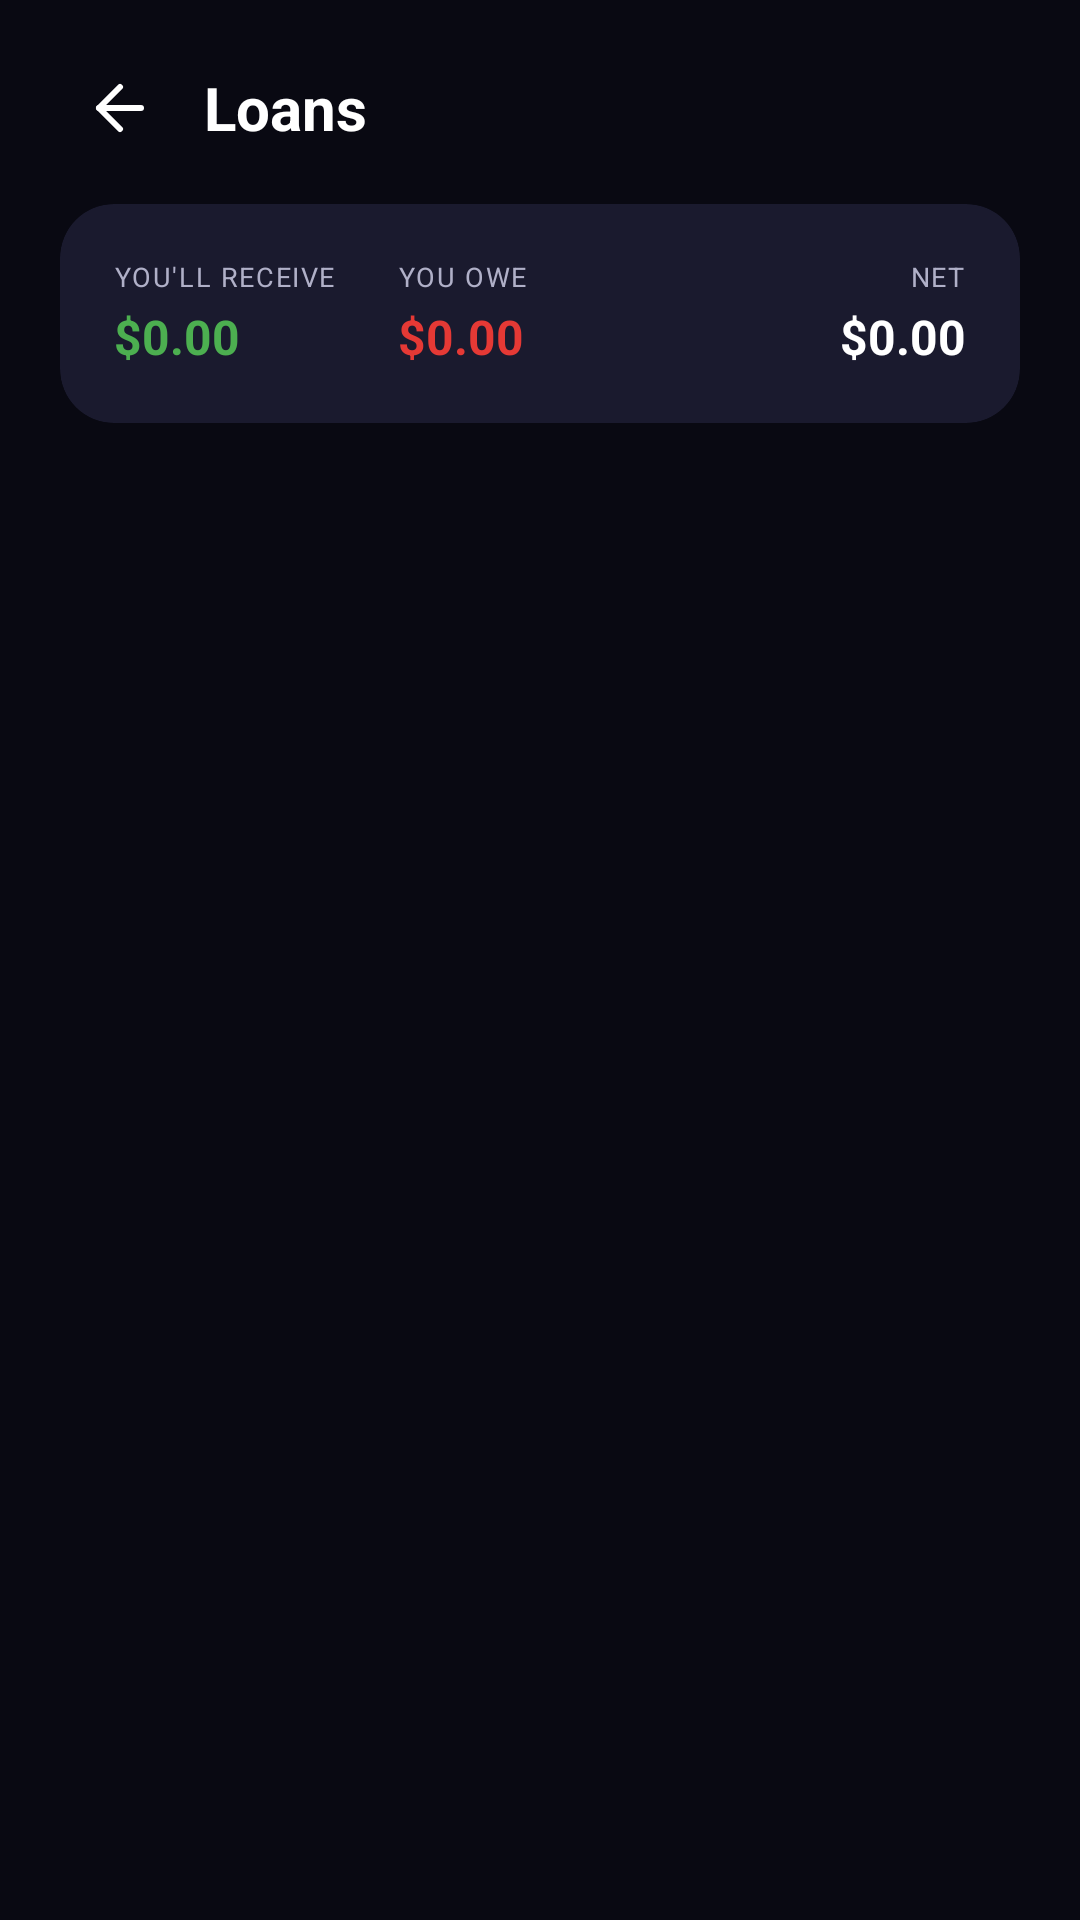

Point at icon controls on the screen. Image size 1080×1920, points as (x,y).
arrow back: (120,108)
